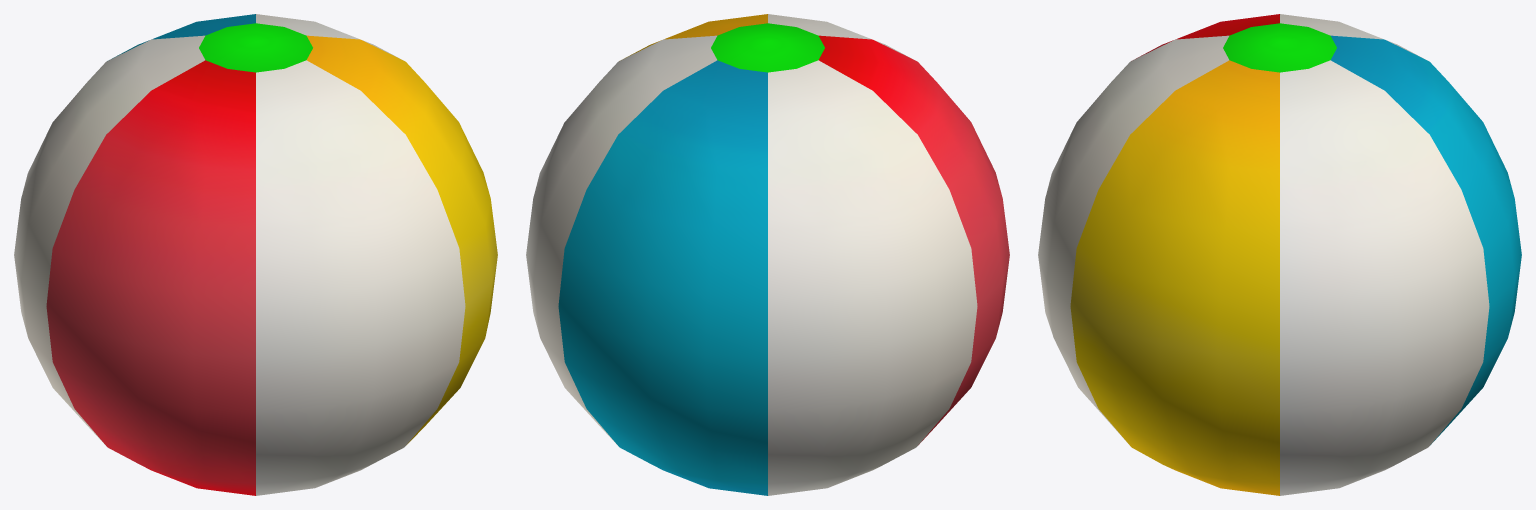
The model's file is beachBall.fbx.
3 views of the same model, side by side, from view 1: azimuth 30°, elevation 25°; view 2: azimuth 150°, elevation 25°; view 3: azimuth 270°, elevation 25° (orthographic).
Parts seen in each view (by area): view 1: beachBall; view 2: beachBall; view 3: beachBall.
Part boxes in pixels (x1,y1,x2,y2): beachBall: (14, 14, 497, 495); beachBall: (526, 14, 1009, 495); beachBall: (1038, 14, 1521, 495).
Size of the model in its own units: 33.4 by 32.74 by 33.4.
